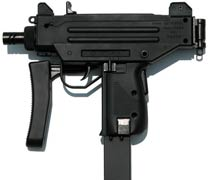rifle: (1, 3, 208, 171)
